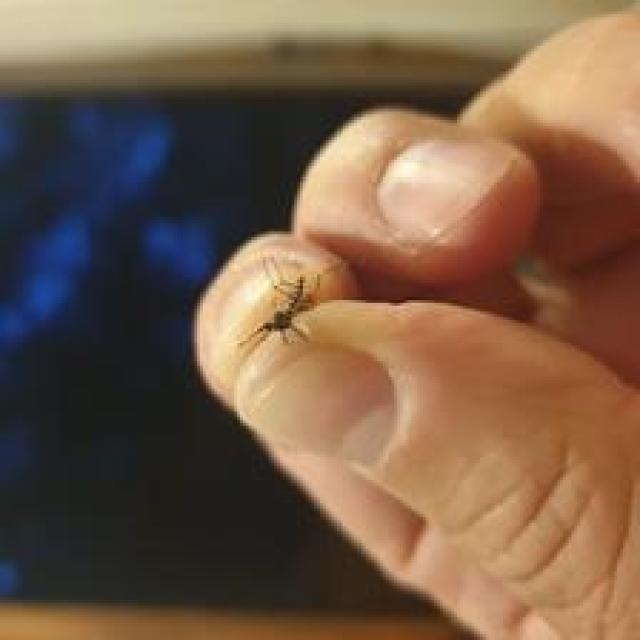Aedes albopictus: (236, 258, 321, 353)
